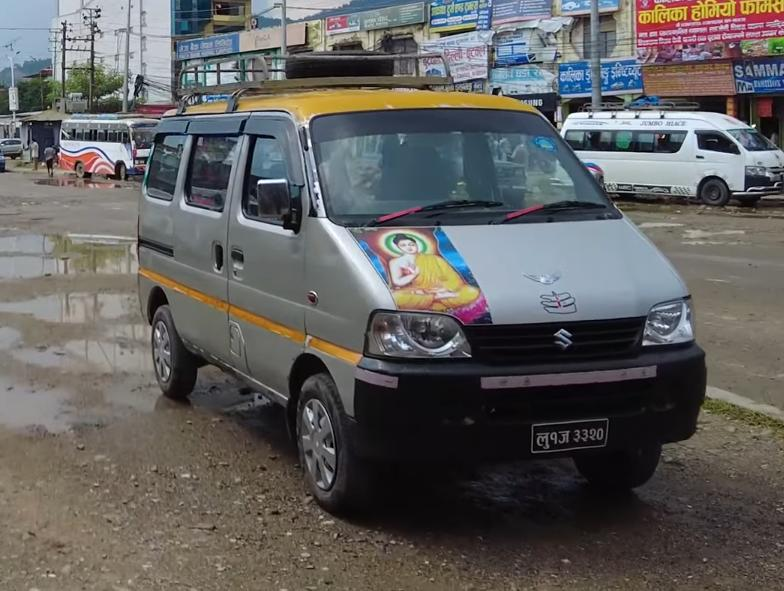bus: (54, 109, 166, 183)
micro_bus: (555, 103, 784, 208)
van: (125, 48, 720, 513)
